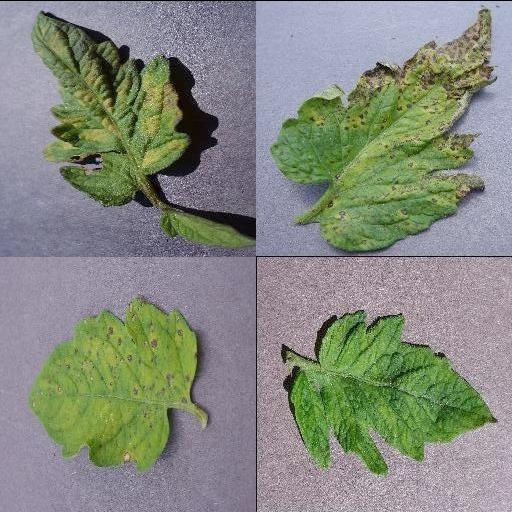Leaf Mold: (33, 8, 191, 206)
Mosaic Virus: (290, 308, 500, 476)
Septoria: (270, 8, 498, 250), (28, 294, 198, 470)
